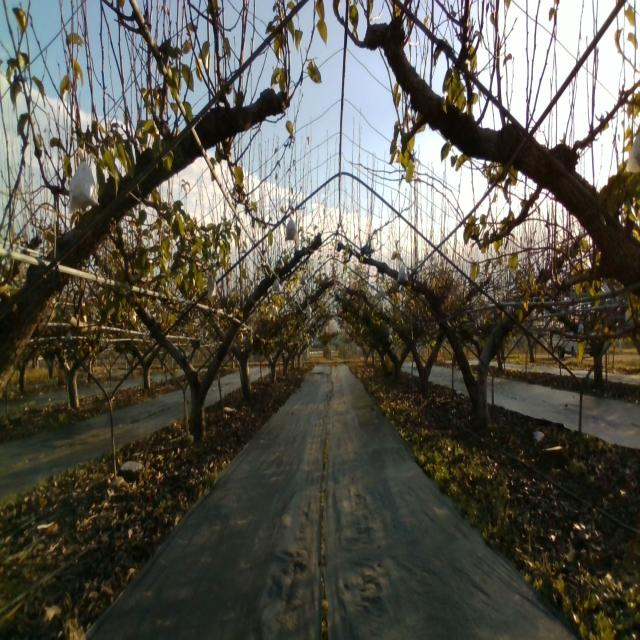pearbags: (68, 148, 100, 212), (284, 214, 300, 242), (397, 264, 408, 284)
